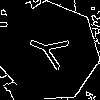Y: (24, 26, 78, 75)
